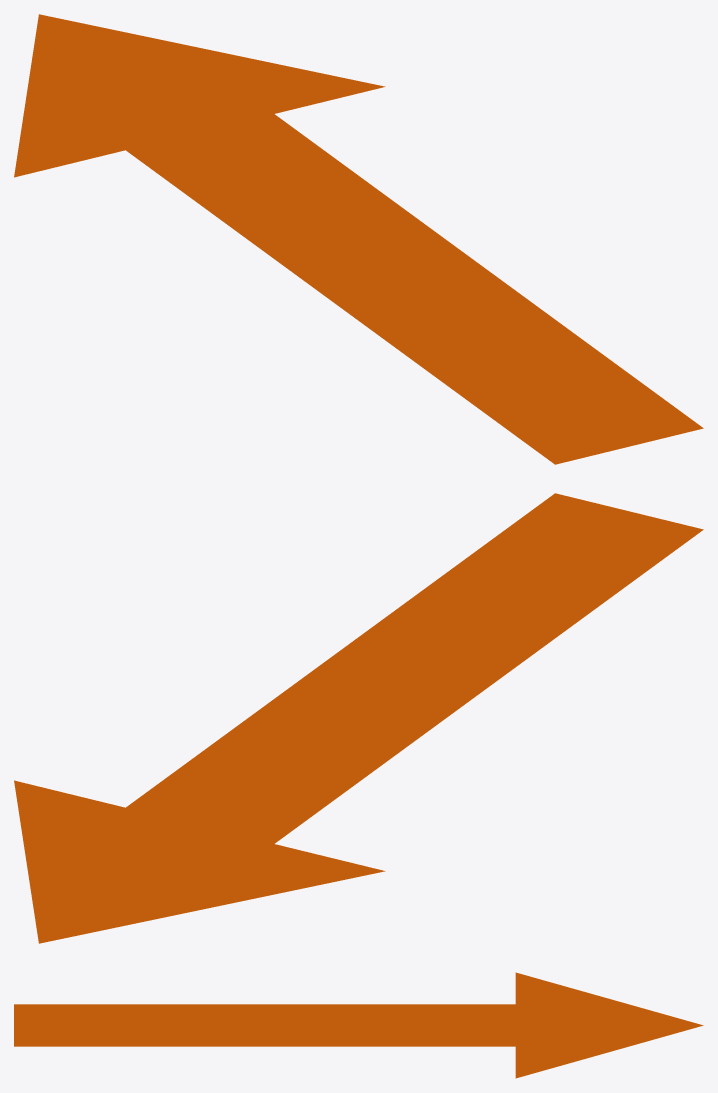
The model's file is direction-arrow.glb.
The picture shows the model from 3 angles, top to bottom: view 1: azimuth 30°, elevation 25°; view 2: azimuth 150°, elevation 25°; view 3: azimuth 270°, elevation 25°; orthographic projection. The views are drawn at different scales.
Visible parts, largest first — view 1: root; view 2: root; view 3: root.
Part boxes in pixels (x1,y1,x2,y2): root: [14, 14, 703, 464]; root: [14, 493, 703, 943]; root: [14, 972, 703, 1078].
Size of the model in its own units: 1 by 0 by 2.75.
